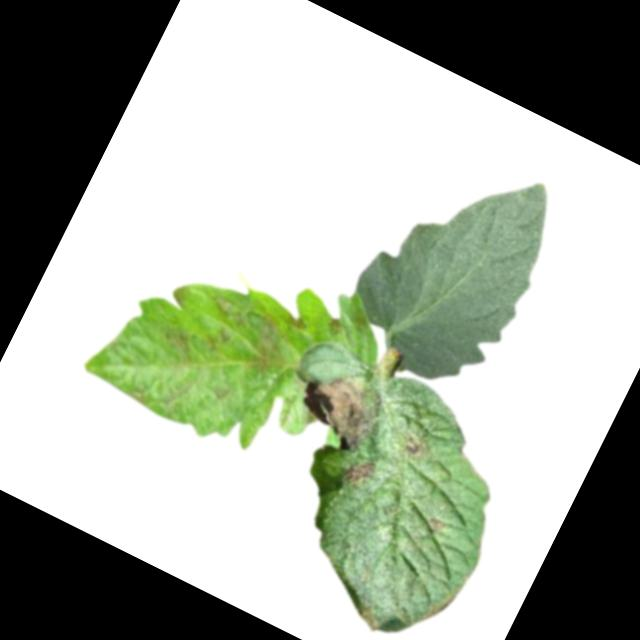Late_blight: (285, 355, 392, 461), (234, 297, 312, 388), (151, 320, 200, 368), (206, 290, 253, 331), (340, 455, 379, 494), (398, 430, 432, 462), (422, 514, 447, 536)
healthy: (329, 128, 574, 405)
